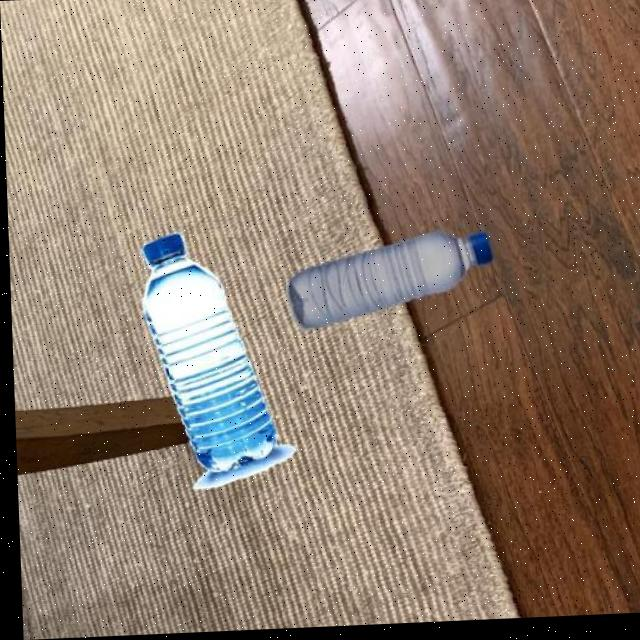bottle: (133, 230, 295, 496), (282, 232, 493, 334)
